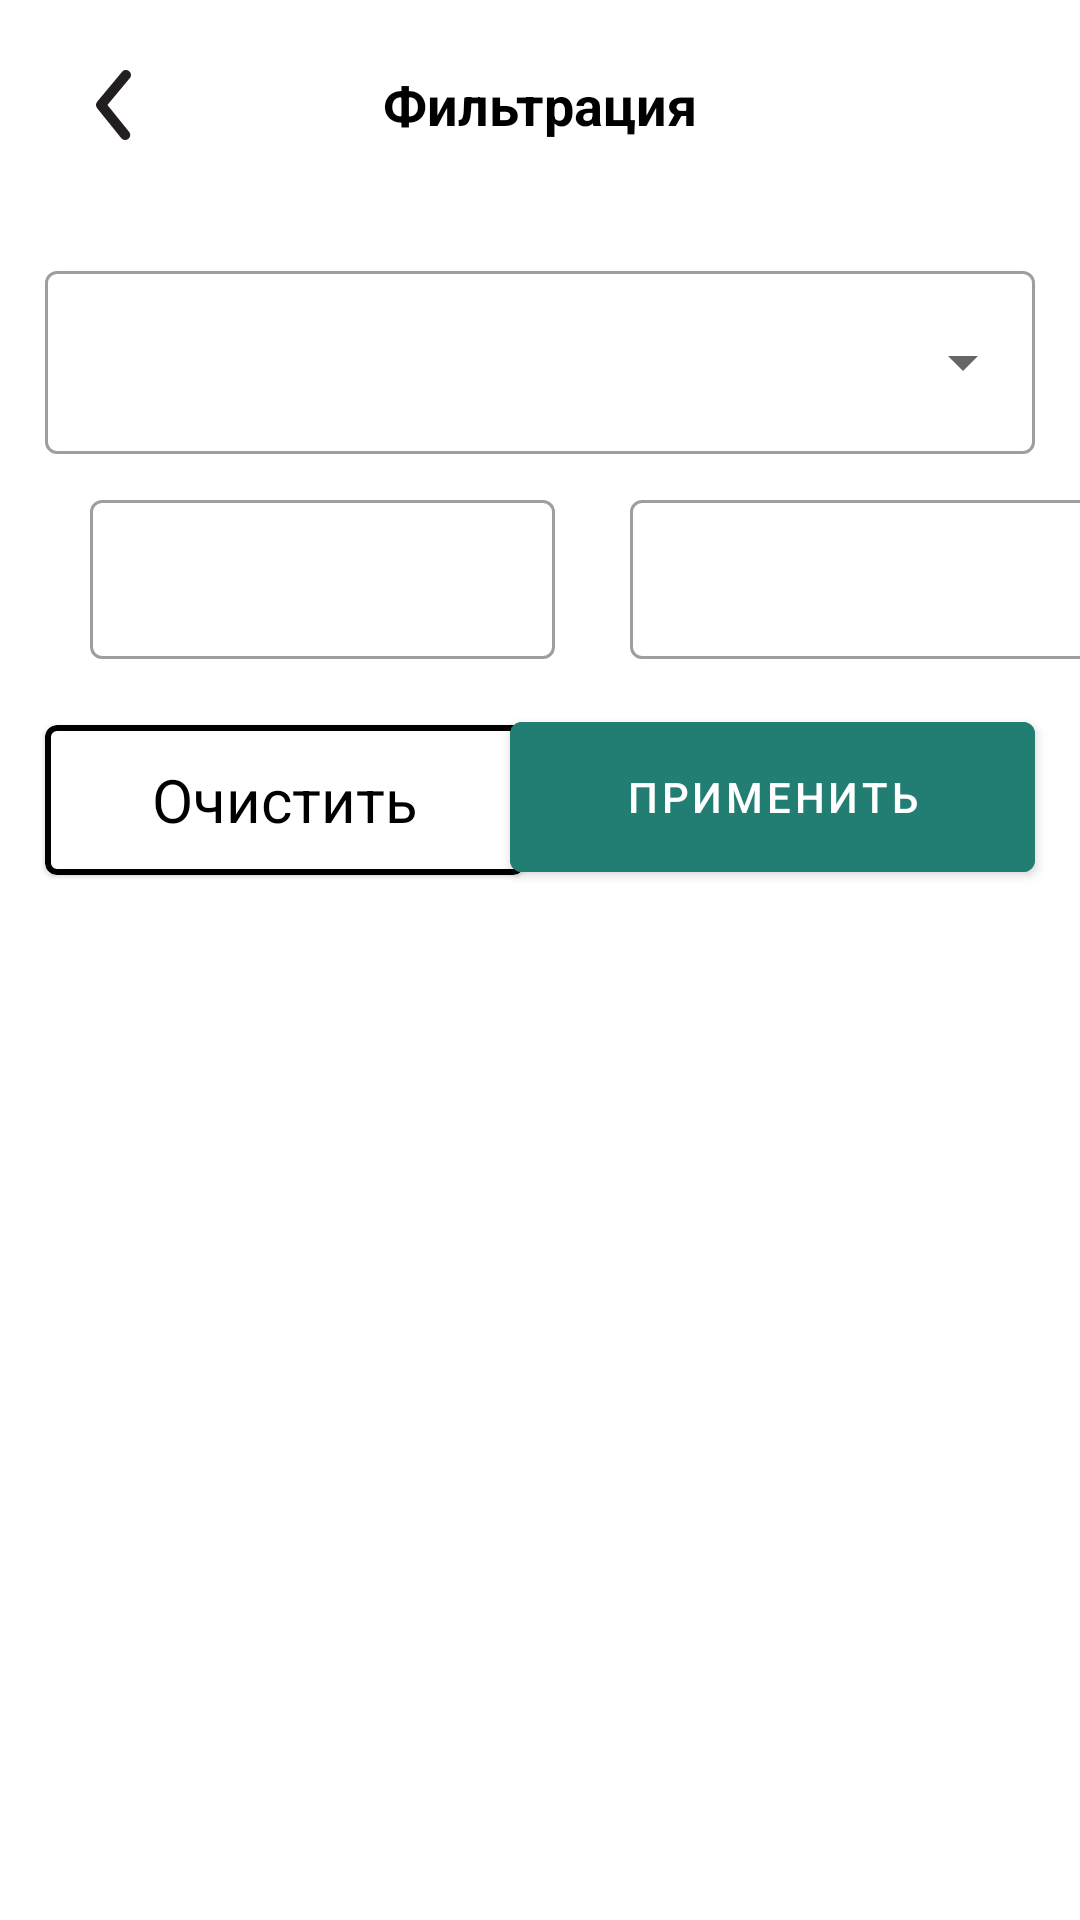

Point at icon controls on the screen. Image size 1080×1920, points as point (x, y).
back fil: point (113, 105)
